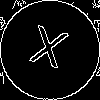X: (25, 25, 70, 78)
